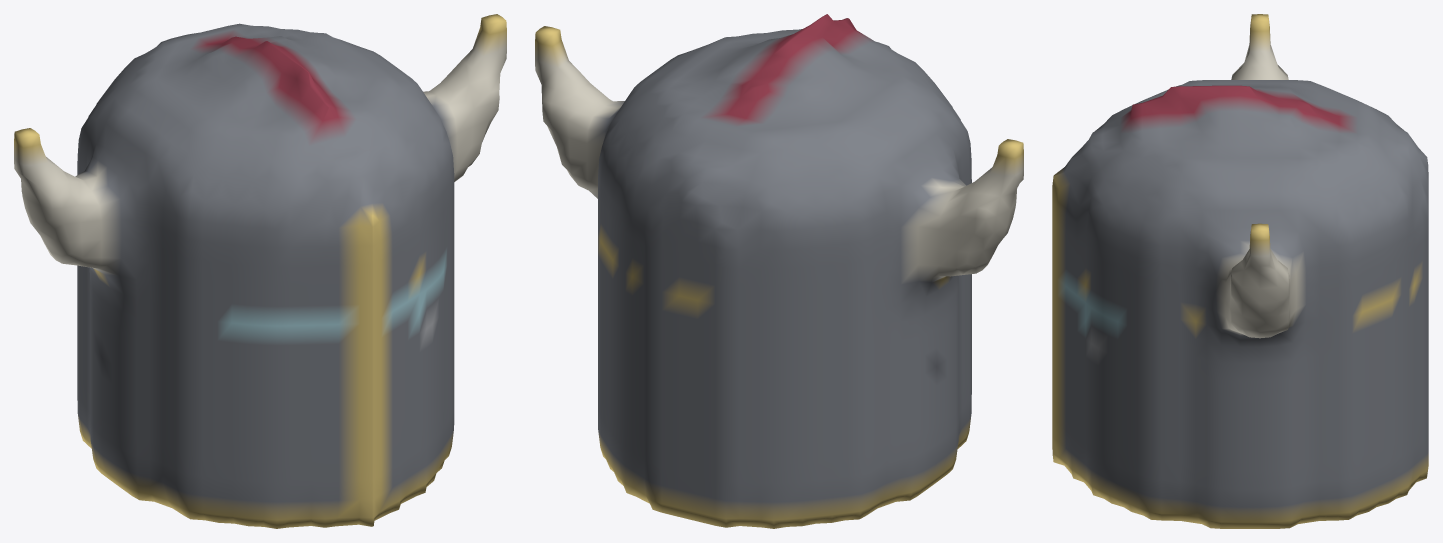
The model's file is plate_epic_helmet_lod1.glb.
3 views of the same model, side by side, from view 1: azimuth 30°, elevation 25°; view 2: azimuth 150°, elevation 25°; view 3: azimuth 270°, elevation 25° (orthographic). The views are drawn at different scales.
Parts seen in each view (by area): view 1: plate_epic_helmet_lod1; view 2: plate_epic_helmet_lod1; view 3: plate_epic_helmet_lod1.
Boxes of the visible parts, box(x1,y1,x2,y2) form: plate_epic_helmet_lod1: box(14, 14, 506, 528); plate_epic_helmet_lod1: box(535, 14, 1023, 528); plate_epic_helmet_lod1: box(1052, 14, 1428, 528).
Size of the model in its own units: 0.6238 by 0.5031 by 0.4552.
